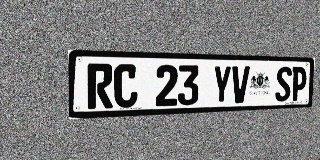2: (156, 65, 178, 106)
3: (178, 65, 199, 106)
C: (114, 64, 138, 108)
P: (291, 67, 307, 101)
R: (87, 63, 113, 109)
S: (275, 67, 292, 102)
V: (231, 66, 250, 103)
Y: (212, 65, 232, 104)
